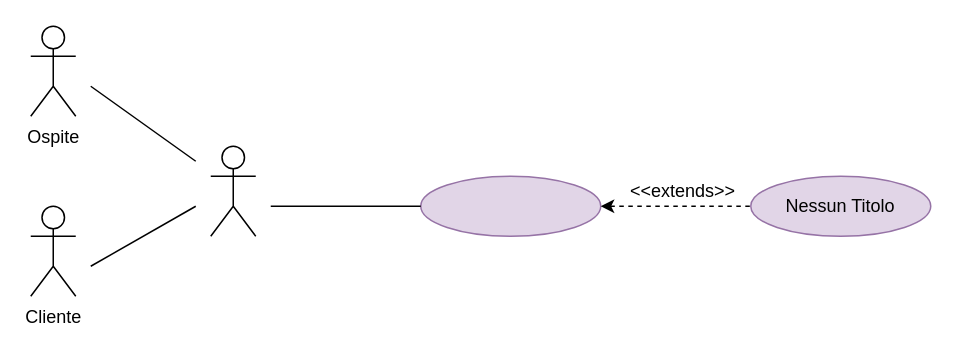
This 957x354 diagram has some shape labels left out. The box of each missing label's shape, as (x1, y1, x2, y2) in pixels:
Ricerca Titolo: (419, 175, 601, 236)
Utente: (209, 145, 256, 236)
